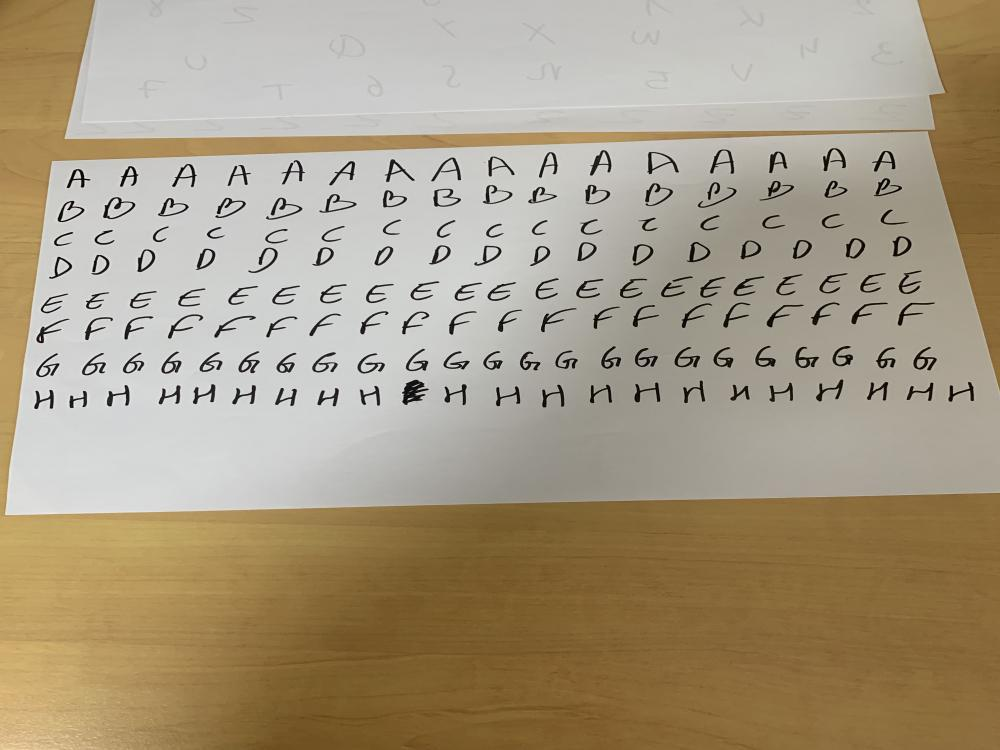A: (378, 158, 419, 184), (644, 150, 684, 176), (430, 156, 464, 182), (707, 148, 738, 176), (279, 158, 308, 186), (328, 160, 357, 188), (868, 149, 900, 173), (589, 149, 615, 178), (485, 156, 519, 178), (820, 146, 848, 172), (172, 163, 198, 189), (536, 151, 559, 179), (226, 164, 254, 186), (766, 150, 790, 174), (66, 168, 92, 190), (119, 166, 140, 188)
B: (694, 180, 742, 209), (264, 196, 307, 223), (96, 196, 138, 222), (641, 181, 677, 208), (320, 193, 360, 216), (213, 196, 248, 222), (52, 199, 88, 224), (760, 179, 796, 203), (154, 196, 190, 219), (481, 182, 516, 205), (526, 184, 562, 206), (431, 187, 465, 210), (582, 184, 615, 206), (378, 190, 412, 210), (874, 177, 904, 198), (822, 181, 850, 200)
C: (876, 206, 914, 229), (579, 218, 613, 239), (692, 214, 727, 232), (760, 214, 794, 232), (318, 224, 348, 244), (432, 218, 458, 240), (147, 224, 175, 244), (378, 217, 405, 237), (527, 219, 554, 239), (634, 216, 664, 233), (50, 231, 80, 248), (262, 228, 293, 244), (818, 212, 845, 230), (480, 222, 508, 239), (205, 223, 229, 242), (92, 228, 115, 246)
D: (245, 246, 281, 274), (624, 242, 658, 268), (471, 244, 506, 268), (371, 245, 401, 271), (840, 238, 871, 262), (426, 244, 456, 268), (45, 256, 75, 280), (192, 247, 217, 272), (738, 238, 764, 261), (686, 241, 712, 264), (135, 248, 158, 274), (310, 247, 341, 266), (575, 241, 600, 264), (890, 236, 916, 258), (530, 246, 556, 268), (790, 238, 813, 261), (89, 254, 112, 277)
E: (175, 286, 213, 310), (362, 281, 398, 306), (660, 274, 695, 299), (732, 275, 768, 299), (124, 288, 160, 312), (225, 285, 260, 308), (856, 272, 892, 294), (407, 280, 444, 301), (818, 272, 849, 296), (698, 276, 729, 300), (574, 277, 606, 300), (318, 282, 351, 304), (897, 270, 927, 294), (776, 273, 806, 297), (618, 276, 650, 298), (453, 280, 484, 302), (38, 292, 69, 314), (536, 278, 564, 302), (272, 285, 304, 306), (486, 282, 518, 302), (83, 290, 111, 311)
F: (209, 313, 258, 339), (164, 312, 209, 340), (846, 302, 894, 328), (538, 306, 580, 334), (31, 318, 75, 344), (895, 301, 937, 328), (763, 303, 806, 329), (678, 302, 716, 328), (809, 300, 843, 328), (720, 301, 754, 329), (446, 309, 481, 336), (122, 315, 157, 341), (308, 312, 344, 337), (263, 314, 300, 338), (83, 315, 115, 342), (358, 310, 392, 335), (592, 305, 624, 330), (400, 310, 432, 335), (631, 304, 662, 328), (496, 308, 524, 334)
G: (34, 352, 64, 379), (403, 346, 432, 372), (310, 350, 340, 375), (79, 352, 110, 376), (910, 346, 938, 372), (356, 352, 386, 376), (672, 346, 703, 368), (599, 344, 625, 370), (159, 350, 186, 375), (829, 345, 857, 369), (442, 350, 474, 371), (237, 350, 262, 376), (753, 344, 780, 368), (794, 344, 821, 368), (553, 348, 581, 371), (274, 351, 302, 374), (121, 351, 147, 375), (519, 348, 544, 371), (199, 350, 224, 373), (634, 347, 660, 369), (481, 348, 505, 371), (876, 346, 898, 370), (712, 347, 736, 368)
H: (814, 376, 849, 403), (439, 382, 473, 407), (680, 378, 709, 406), (539, 382, 568, 410), (582, 382, 615, 406), (492, 384, 524, 408), (945, 380, 978, 403), (766, 380, 798, 403), (312, 386, 344, 409), (634, 380, 662, 406), (156, 383, 185, 408), (904, 381, 936, 402), (104, 384, 132, 408), (861, 381, 892, 402), (355, 385, 383, 408), (271, 386, 300, 408), (30, 388, 56, 412), (191, 384, 218, 406), (230, 384, 259, 404), (726, 383, 753, 404), (68, 389, 90, 412)
